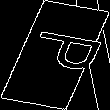P_E: (9, 30, 101, 80)
